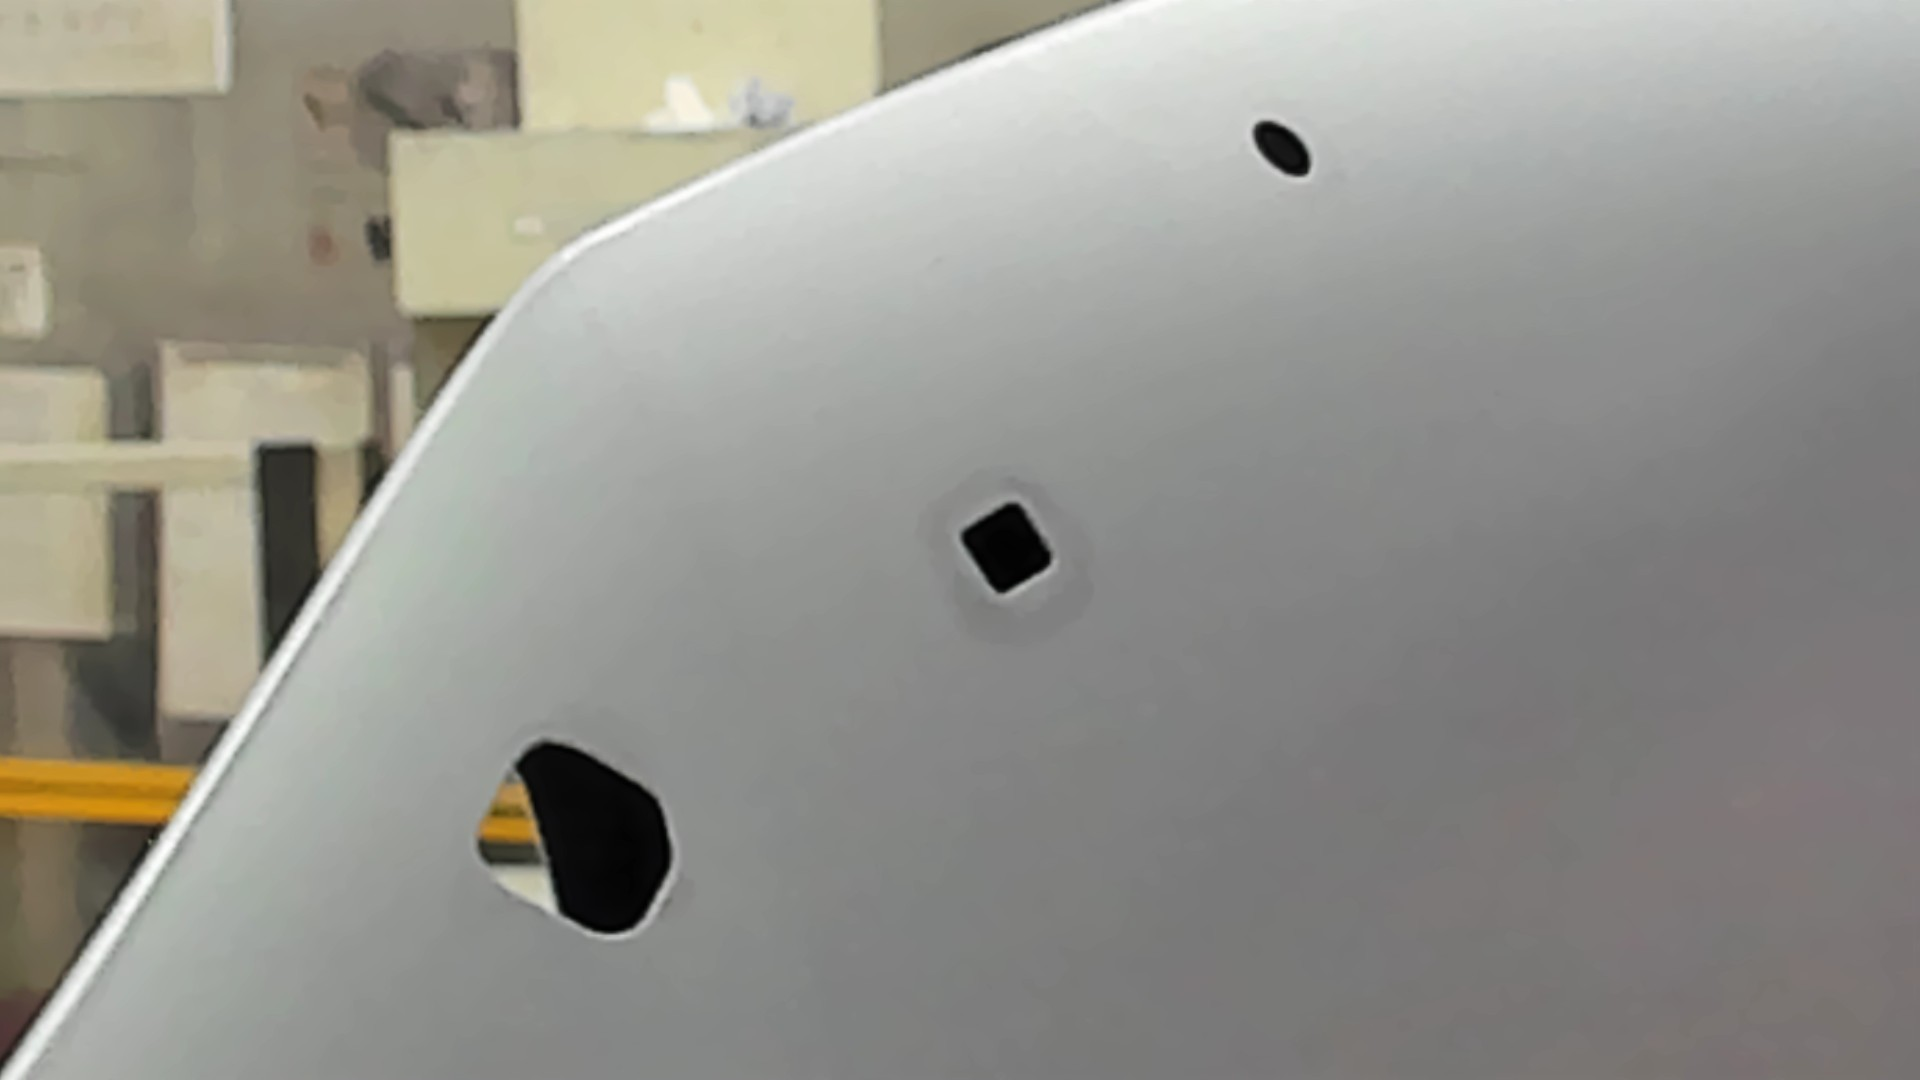chico: (1250, 117, 1315, 179)
grande: (473, 735, 679, 942)
mediano: (957, 498, 1059, 603)
